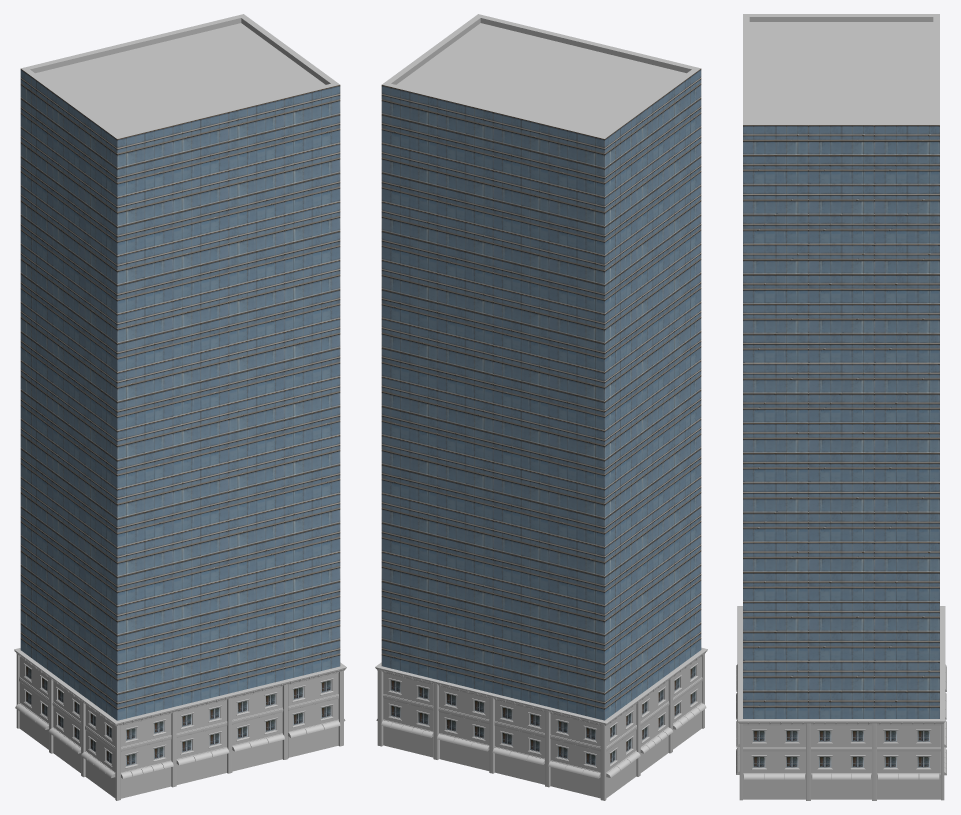
The model's file is High RIse Building 45.fbx.
The picture shows the model from 3 angles, left to right: view 1: azimuth 30°, elevation 25°; view 2: azimuth 150°, elevation 25°; view 3: azimuth 270°, elevation 25°; orthographic projection. The views are drawn at different scales.
Visible parts, largest first — view 1: Top, Base, Part_6, Part_8, Part_2, Part_3, Part_7, Part_9, Part_4, Part_5, Part_1; view 2: Top, Base, Part_2, Part_5, Part_8, Part_3, Part_4, Part_6, Part_7, Part_9, Part_1; view 3: Top, Base, Part_4, Part_9, Part_2, Part_3, Part_5, Part_6, Part_7, Part_8, Part_1.
Part boxes in pixels (x1,y1,x2,y2): Top: (20,14,340,197); Base: (14,648,346,800); Part_6: (20,302,340,430); Part_8: (20,185,340,313); Part_2: (20,535,340,664); Part_3: (20,477,340,605); Part_7: (20,244,340,372); Part_9: (20,127,340,255); Part_4: (20,419,340,547); Part_5: (20,360,340,489); Part_1: (20,594,340,720); Top: (381,14,701,197); Base: (375,647,707,800); Part_2: (381,535,701,663); Part_5: (381,360,701,488); Part_8: (381,185,701,313); Part_3: (381,477,701,605); Part_4: (381,419,701,547); Part_6: (381,302,701,430); Part_7: (381,244,701,372); Part_9: (381,127,701,255); Part_1: (381,594,701,720); Top: (743,14,939,184); Base: (736,606,946,800); Part_4: (743,482,939,542); Part_9: (743,184,939,244); Part_2: (743,602,939,661); Part_3: (743,542,939,601); Part_5: (743,423,939,482); Part_6: (743,363,939,422); Part_7: (743,304,939,363); Part_8: (743,244,939,303); Part_1: (743,661,939,718).
Size of the model in its own units: 3363 by 9050 by 2565.
